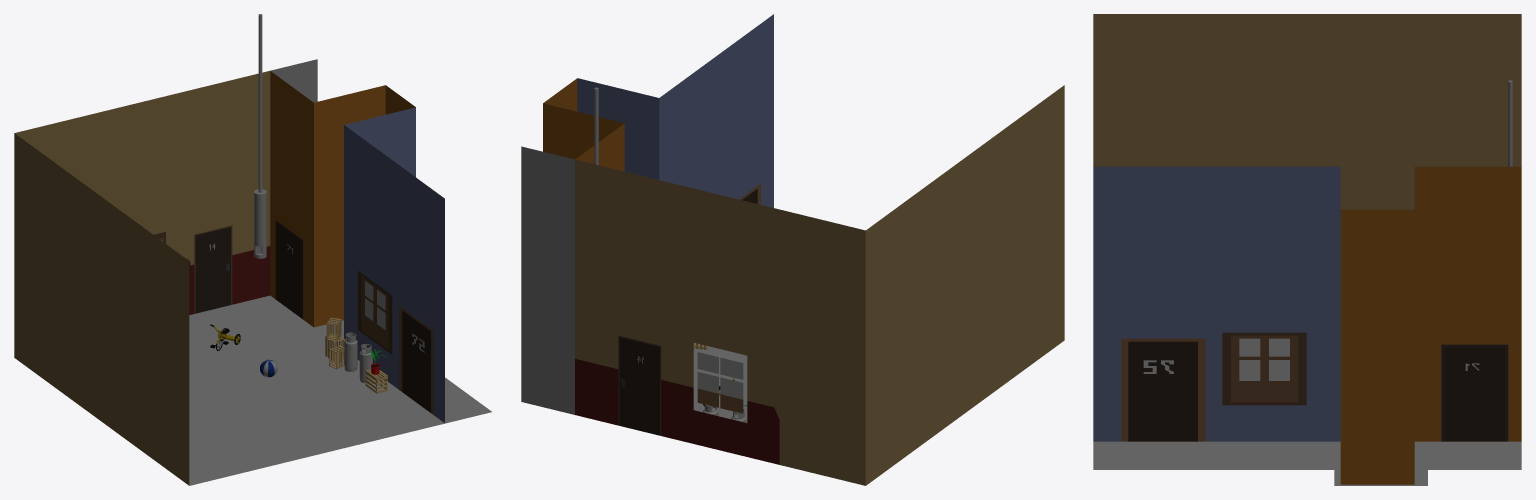
Rendered from VilaDoChaves.obj.
3 views of the same model, side by side, from view 1: azimuth 30°, elevation 25°; view 2: azimuth 150°, elevation 25°; view 3: azimuth 270°, elevation 25° (orthographic). The views are drawn at different scales.
Parts seen in each view (by area): view 1: Paredes, Cilindro, Caixote_SMadruga, Gas_S_Madruga; view 2: Paredes; view 3: Paredes.
Boxes of the visible parts, left/top/right/bottom form: Paredes: left=14, top=59, right=491, bottom=485; Cilindro: left=254, top=14, right=266, bottom=258; Caixote_SMadruga: left=325, top=317, right=387, bottom=393; Gas_S_Madruga: left=344, top=332, right=372, bottom=383; Paredes: left=521, top=14, right=1064, bottom=485; Paredes: left=1093, top=14, right=1521, bottom=485.
Bounding box in the file's own units: 17.42 × 14.5 × 16.
